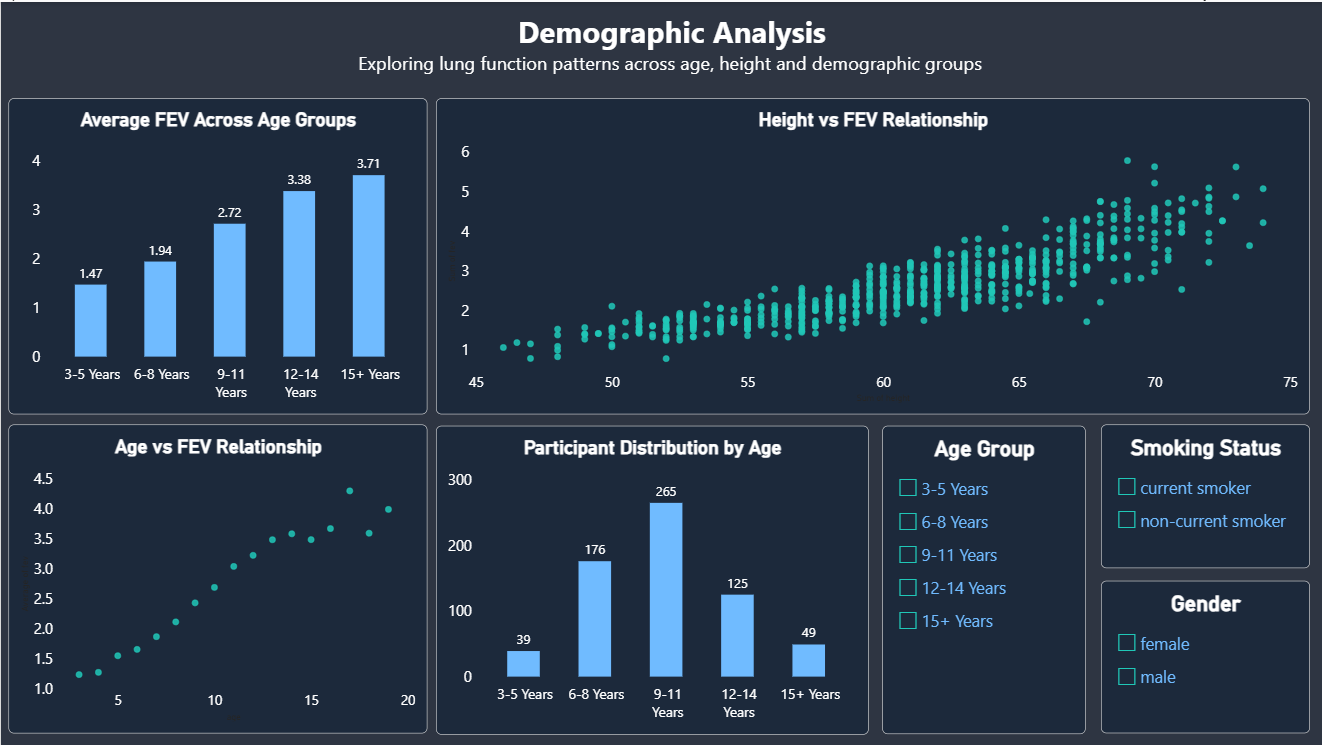

The dashboard page shown, as its layout file describes it:
{"tool":"powerbi","page":{"name":"Demographic Analysis","canvas":[1920,1080],"ordinal":1},"visuals":[{"type":"textbox","box":[10.9,12.7,1909.2,110.4],"z":0},{"type":"clusteredColumnChart","title":"Average FEV Across Age Groups","fields":{"Category":["fev_data.Age Group"],"Y":["fev_data.Average FEV"]},"box":[10.9,139.3,606.2,457.8],"z":1},{"type":"scatterChart","title":"Age vs FEV Relationship","fields":{"X":["fev_data.age"],"Y":["Avg(fev_data.fev)"]},"box":[10.9,611.7,606.2,447],"z":2},{"type":"scatterChart","title":"Height vs FEV Relationship","fields":{"Category":["fev_data.id"],"X":["Sum(fev_data.height)"],"Y":["Sum(fev_data.fev)"]},"box":[629.8,139.3,1265,457.8],"z":3},{"type":"clusteredColumnChart","title":"Participant Distribution by Age","fields":{"Category":["fev_data.Age Group"],"Y":["CountNonNull(fev_data.id)"]},"box":[629.8,613.5,626.1,447],"z":4},{"type":"slicer","title":"Gender","fields":{"Values":["fev_data.sex"]},"box":[1592.5,837.9,302.2,220.8],"z":6},{"type":"slicer","title":"Smoking Status","fields":{"Values":["fev_data.smoke"]},"box":[1592.5,611.7,302.2,208.1],"z":7},{"type":"slicer","title":"Age Group","fields":{"Values":["fev_data.Age Group"]},"box":[1275,614,294.8,446.5],"z":8}]}

Visuals, with their boxes in screenshot pixels (x1, y1, x2, y2), scaled from the page's 1920x1080 canvas onto the 1322x745 screenshot:
textbox: bbox=(8, 9, 1321, 85)
"Average FEV Across Age Groups" clusteredColumnChart: bbox=(8, 96, 425, 412)
"Age vs FEV Relationship" scatterChart: bbox=(8, 422, 425, 730)
"Height vs FEV Relationship" scatterChart: bbox=(434, 96, 1305, 412)
"Participant Distribution by Age" clusteredColumnChart: bbox=(434, 423, 865, 732)
"Gender" slicer: bbox=(1097, 578, 1305, 730)
"Smoking Status" slicer: bbox=(1097, 422, 1305, 566)
"Age Group" slicer: bbox=(878, 424, 1081, 732)
